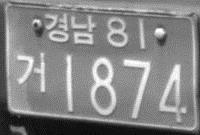1: (61, 51, 79, 115), (136, 15, 150, 52)
4: (158, 61, 188, 123)
7: (120, 57, 153, 122)
8: (89, 56, 117, 115), (105, 15, 129, 46)
거: (15, 51, 48, 95)
경남_O: (43, 12, 98, 46)
